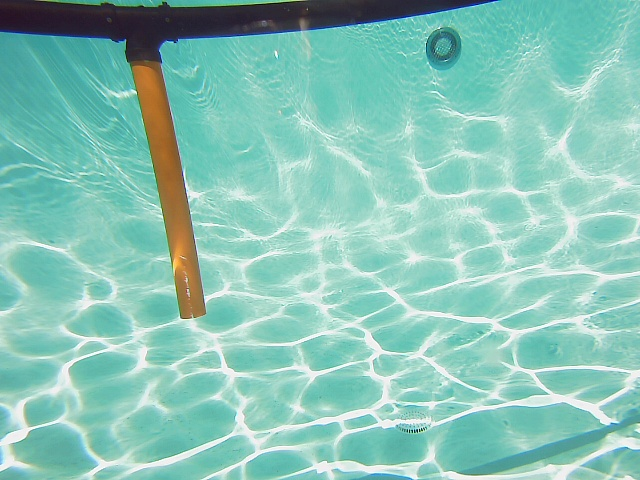Gate: (123, 48, 210, 323)
